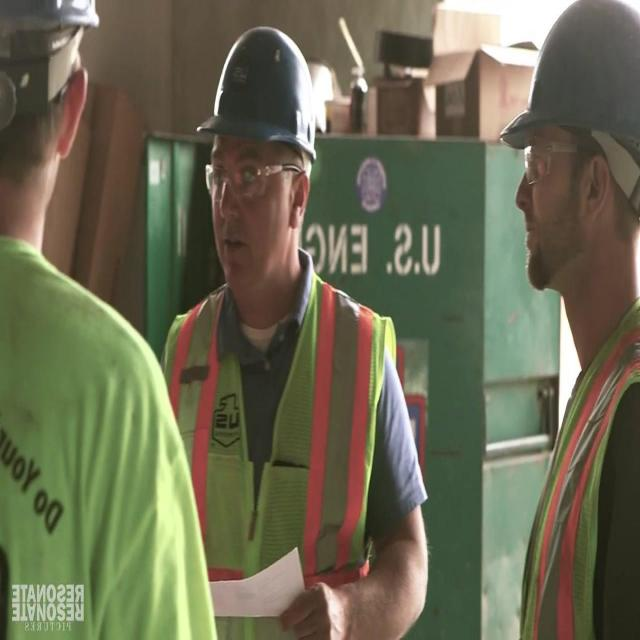Reflective-Jacket: (162, 271, 402, 632), (509, 294, 640, 640)
Safety-Helmet: (499, 2, 640, 204), (196, 21, 330, 175), (0, 0, 103, 52)
